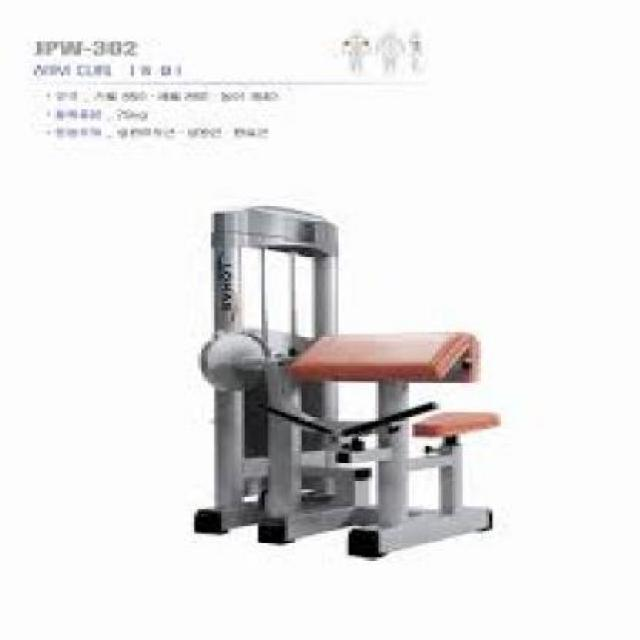arm curl machine: (192, 205, 496, 560)
